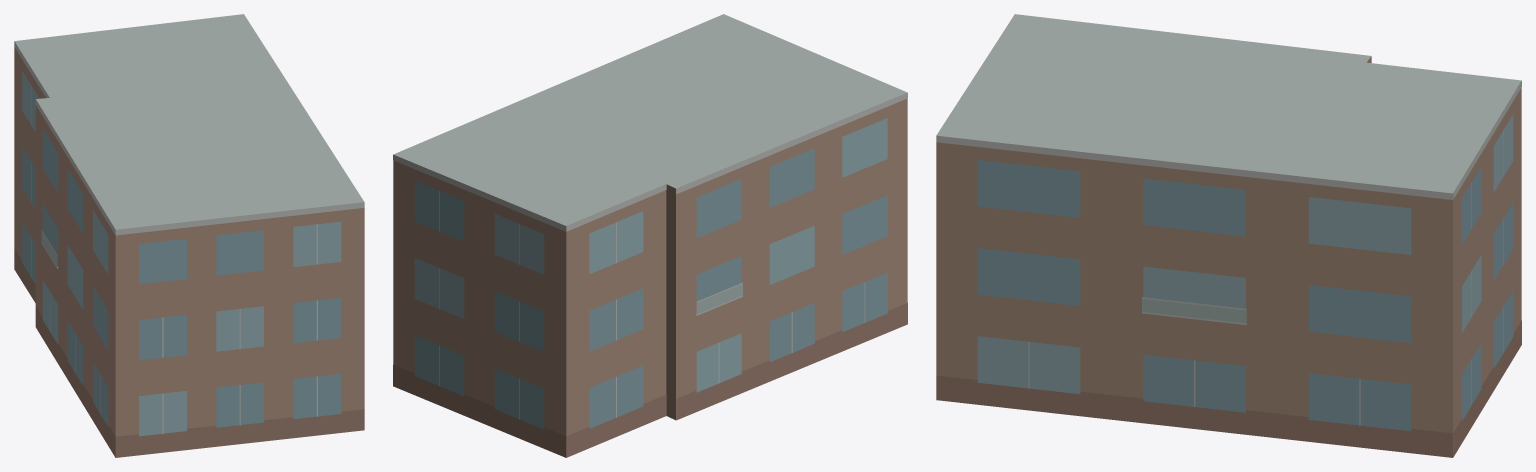
Rendered from survey-upis-33018789.glb.
3 views of the same model, side by side, from view 1: azimuth 30°, elevation 25°; view 2: azimuth 150°, elevation 25°; view 3: azimuth 270°, elevation 25° (orthographic). The views are drawn at different scales.
Visible parts, largest first — view 1: survey-upis-33018789.tmp; view 2: survey-upis-33018789.tmp; view 3: survey-upis-33018789.tmp.
Boxes of the visible parts, left/top/right/bottom form: survey-upis-33018789.tmp: left=14, top=14, right=364, bottom=457; survey-upis-33018789.tmp: left=393, top=14, right=907, bottom=457; survey-upis-33018789.tmp: left=936, top=14, right=1521, bottom=457.
Size of the model in its own units: 14.28 by 9.8 by 19.68.
